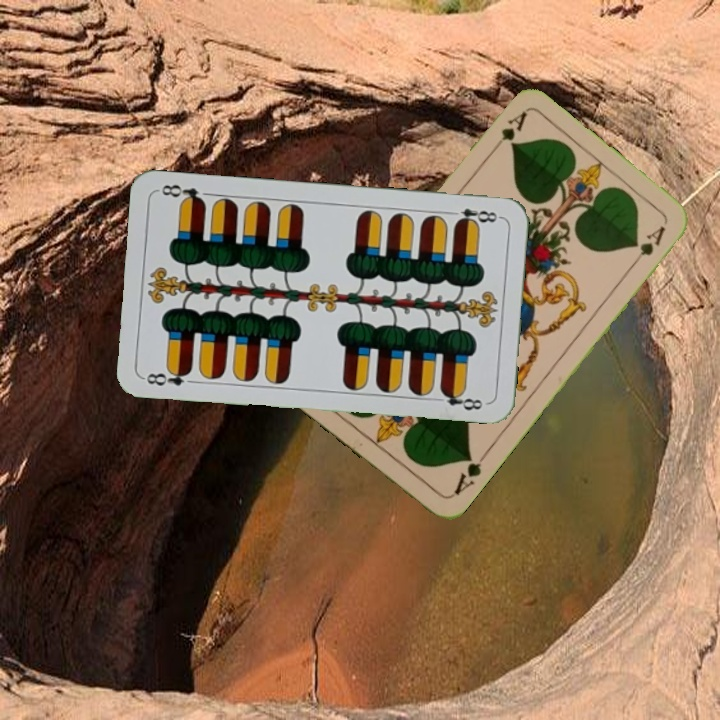E8: (444, 204, 503, 228), (141, 364, 195, 389)
GA: (485, 108, 529, 157), (448, 448, 490, 498)
